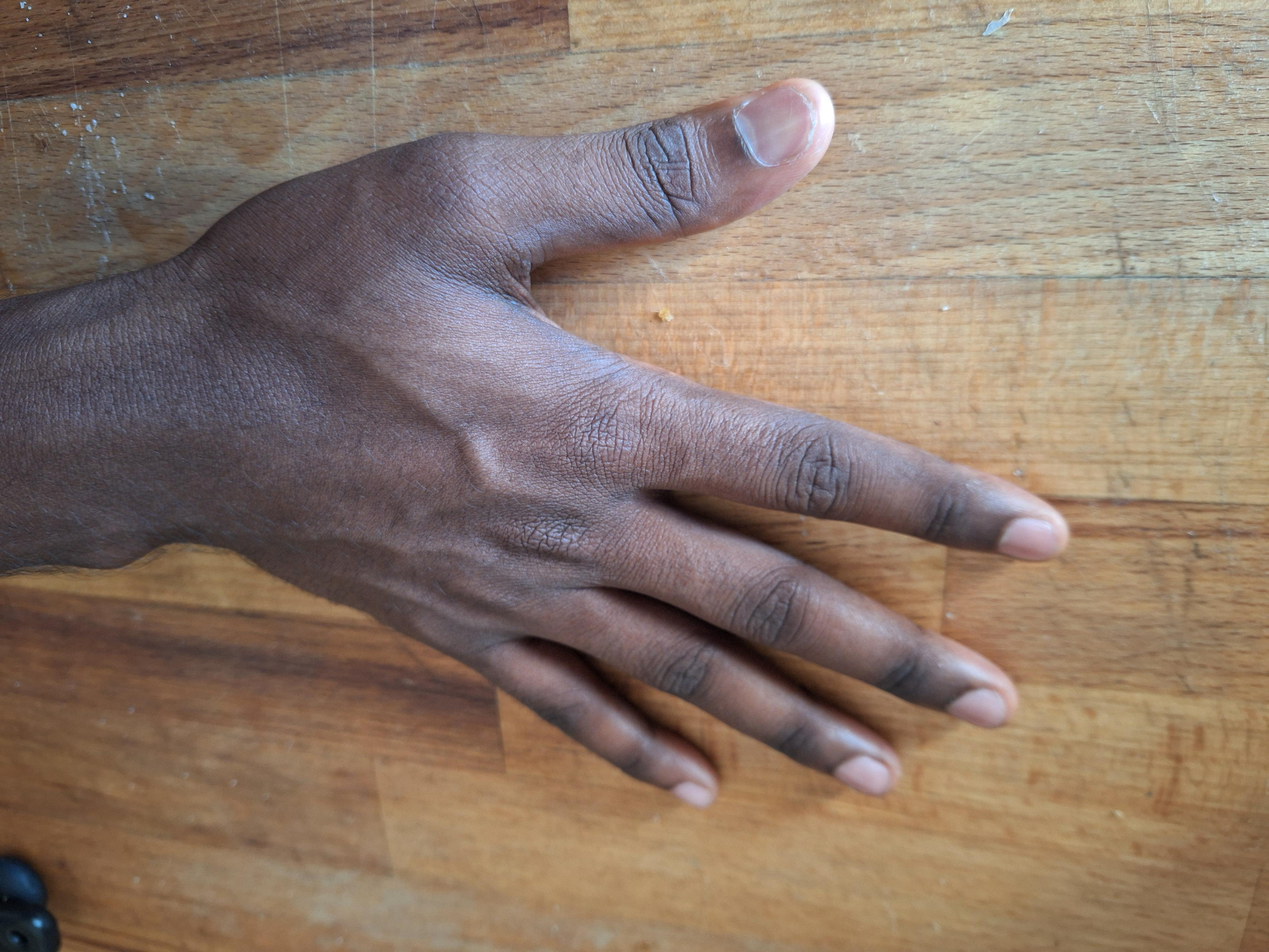Fingernail: (735, 87, 813, 165), (999, 519, 1058, 561), (835, 754, 890, 796), (948, 689, 1007, 728), (672, 782, 713, 809)
